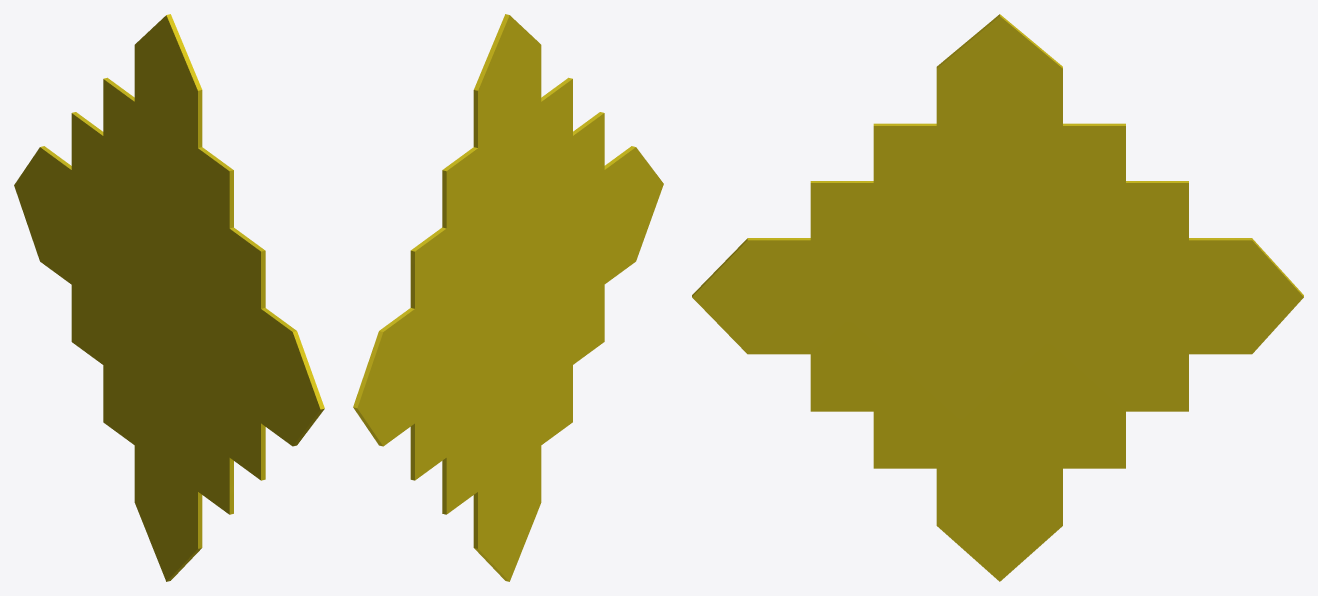
File: star.dae
3 renders of one model, left to right at view 1: azimuth 30°, elevation 25°; view 2: azimuth 150°, elevation 25°; view 3: azimuth 270°, elevation 25°, orthographic.
Parts seen in each view (by area): view 1: Plane; view 2: Plane; view 3: Plane.
Part boxes in pixels (bbox=[...]): Plane: bbox=[14, 14, 324, 581]; Plane: bbox=[353, 14, 663, 581]; Plane: bbox=[692, 14, 1303, 581].
Bounding box in the file's own units: 0.01 × 1.21 × 1.24.
Materials: 1 (1 with a texture image).
